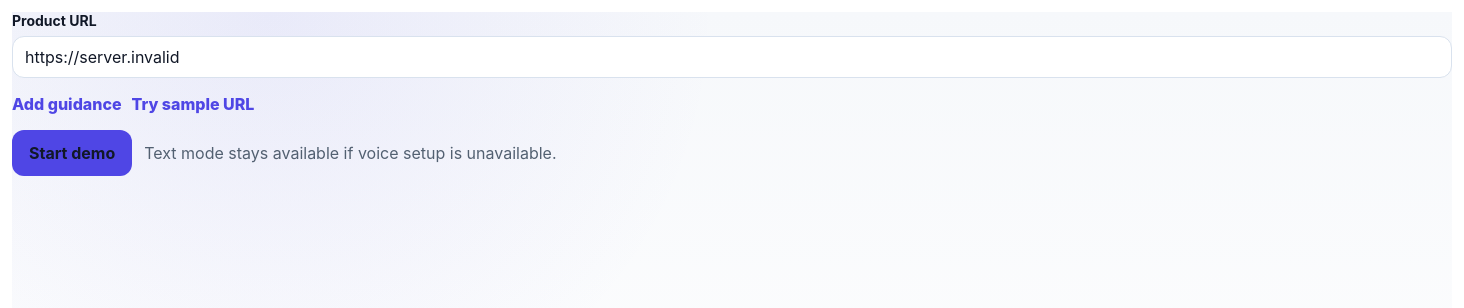
DemoStartForm › rejects dangerous URL schemes
Replace the text in the field labelled "Product URL" with "javascript:alert(1)" at (732, 57), box [12,36,1452,78]
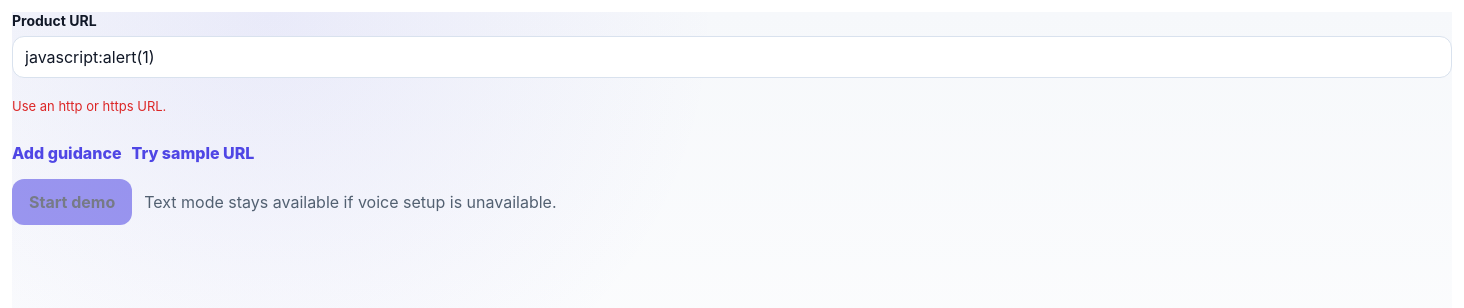
expect the text "Use an http or https URL." is shown: met, box [12,98,166,114]
